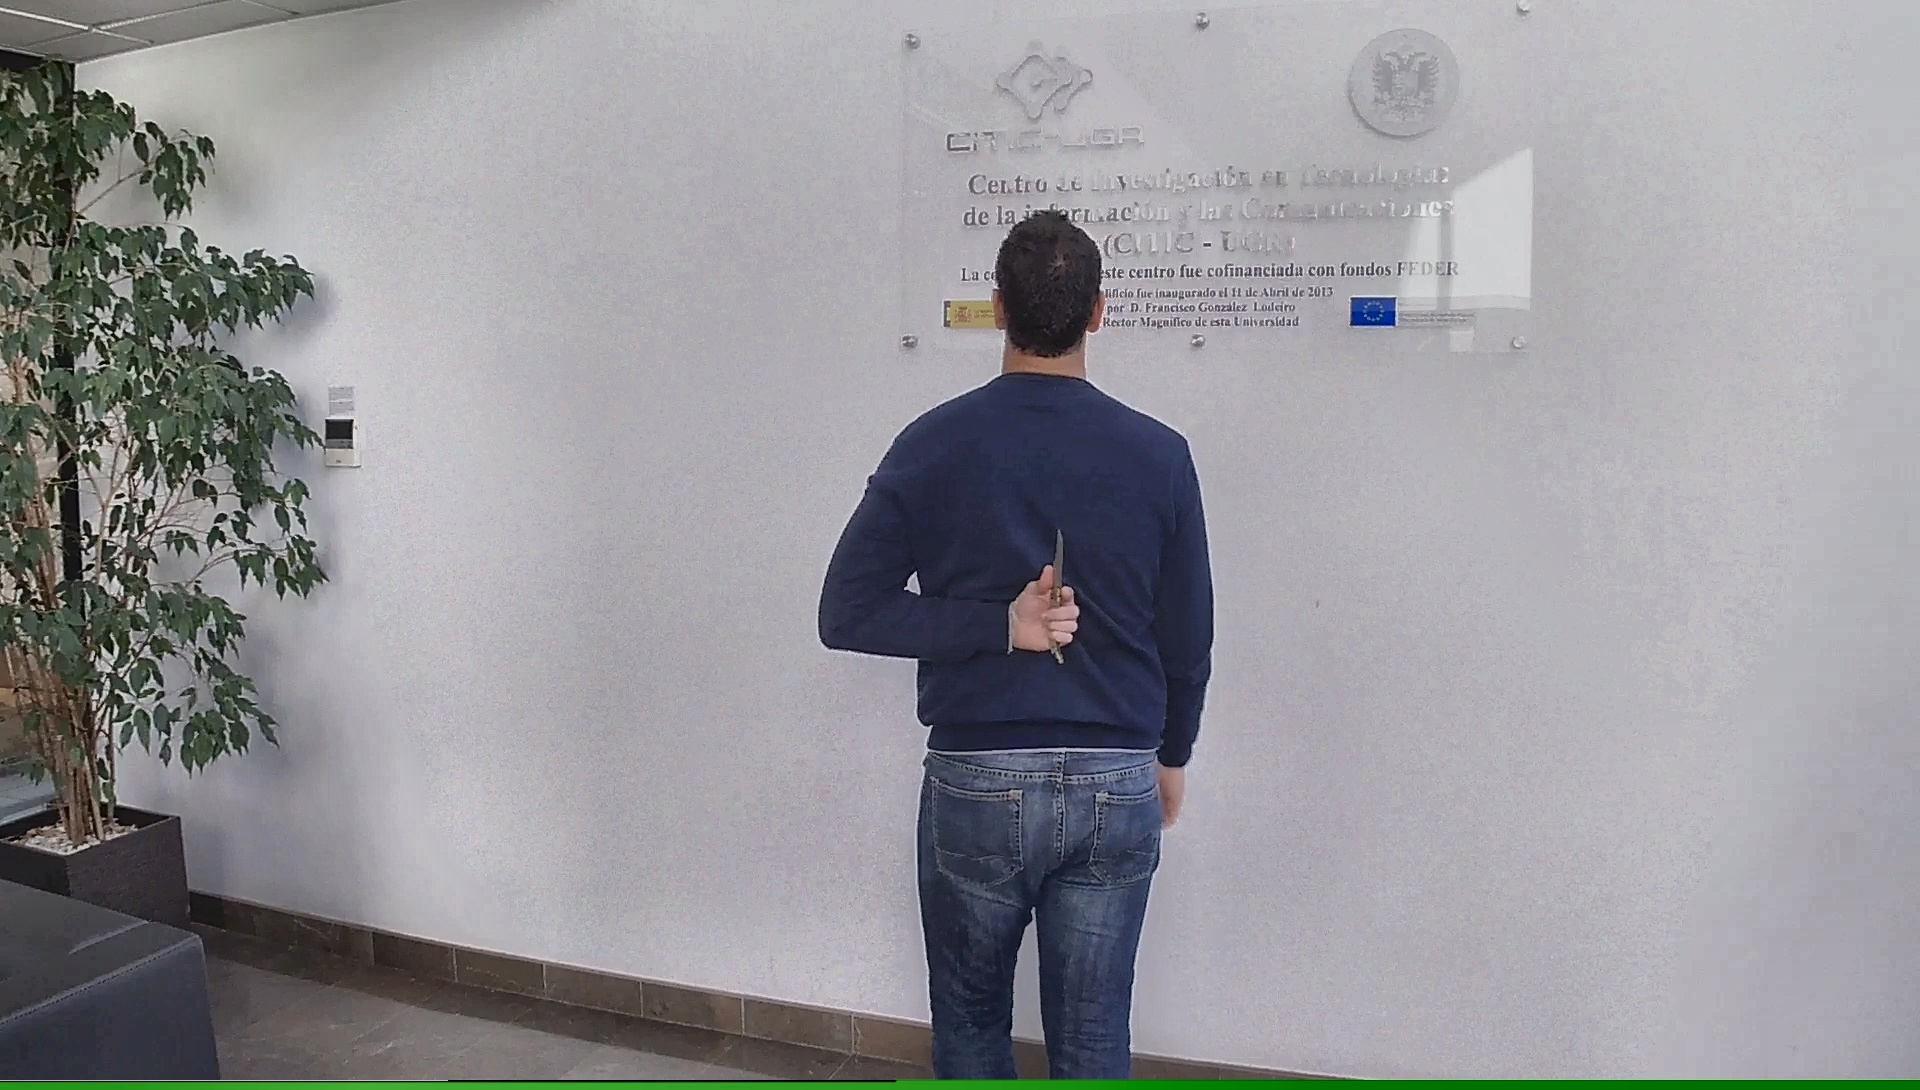knife: (1036, 521, 1087, 670)
